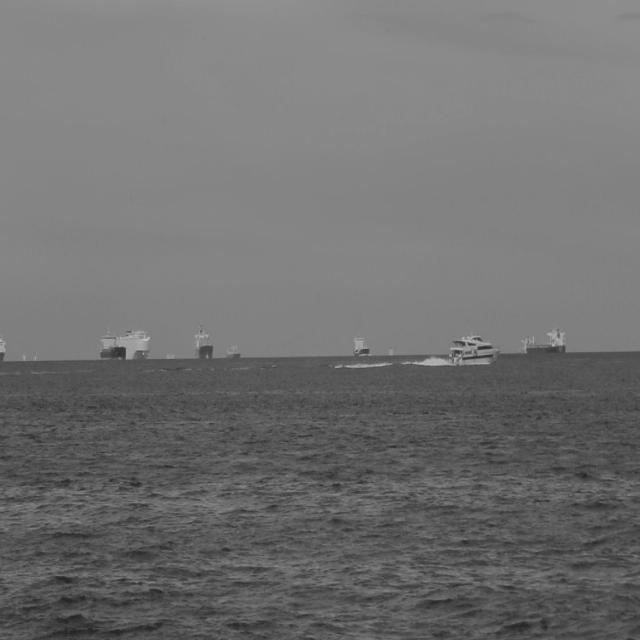ship: (449, 330, 501, 364), (526, 323, 568, 357), (121, 331, 149, 363), (98, 333, 124, 362), (194, 326, 213, 361), (349, 332, 370, 361), (222, 341, 242, 361), (0, 335, 6, 377)
